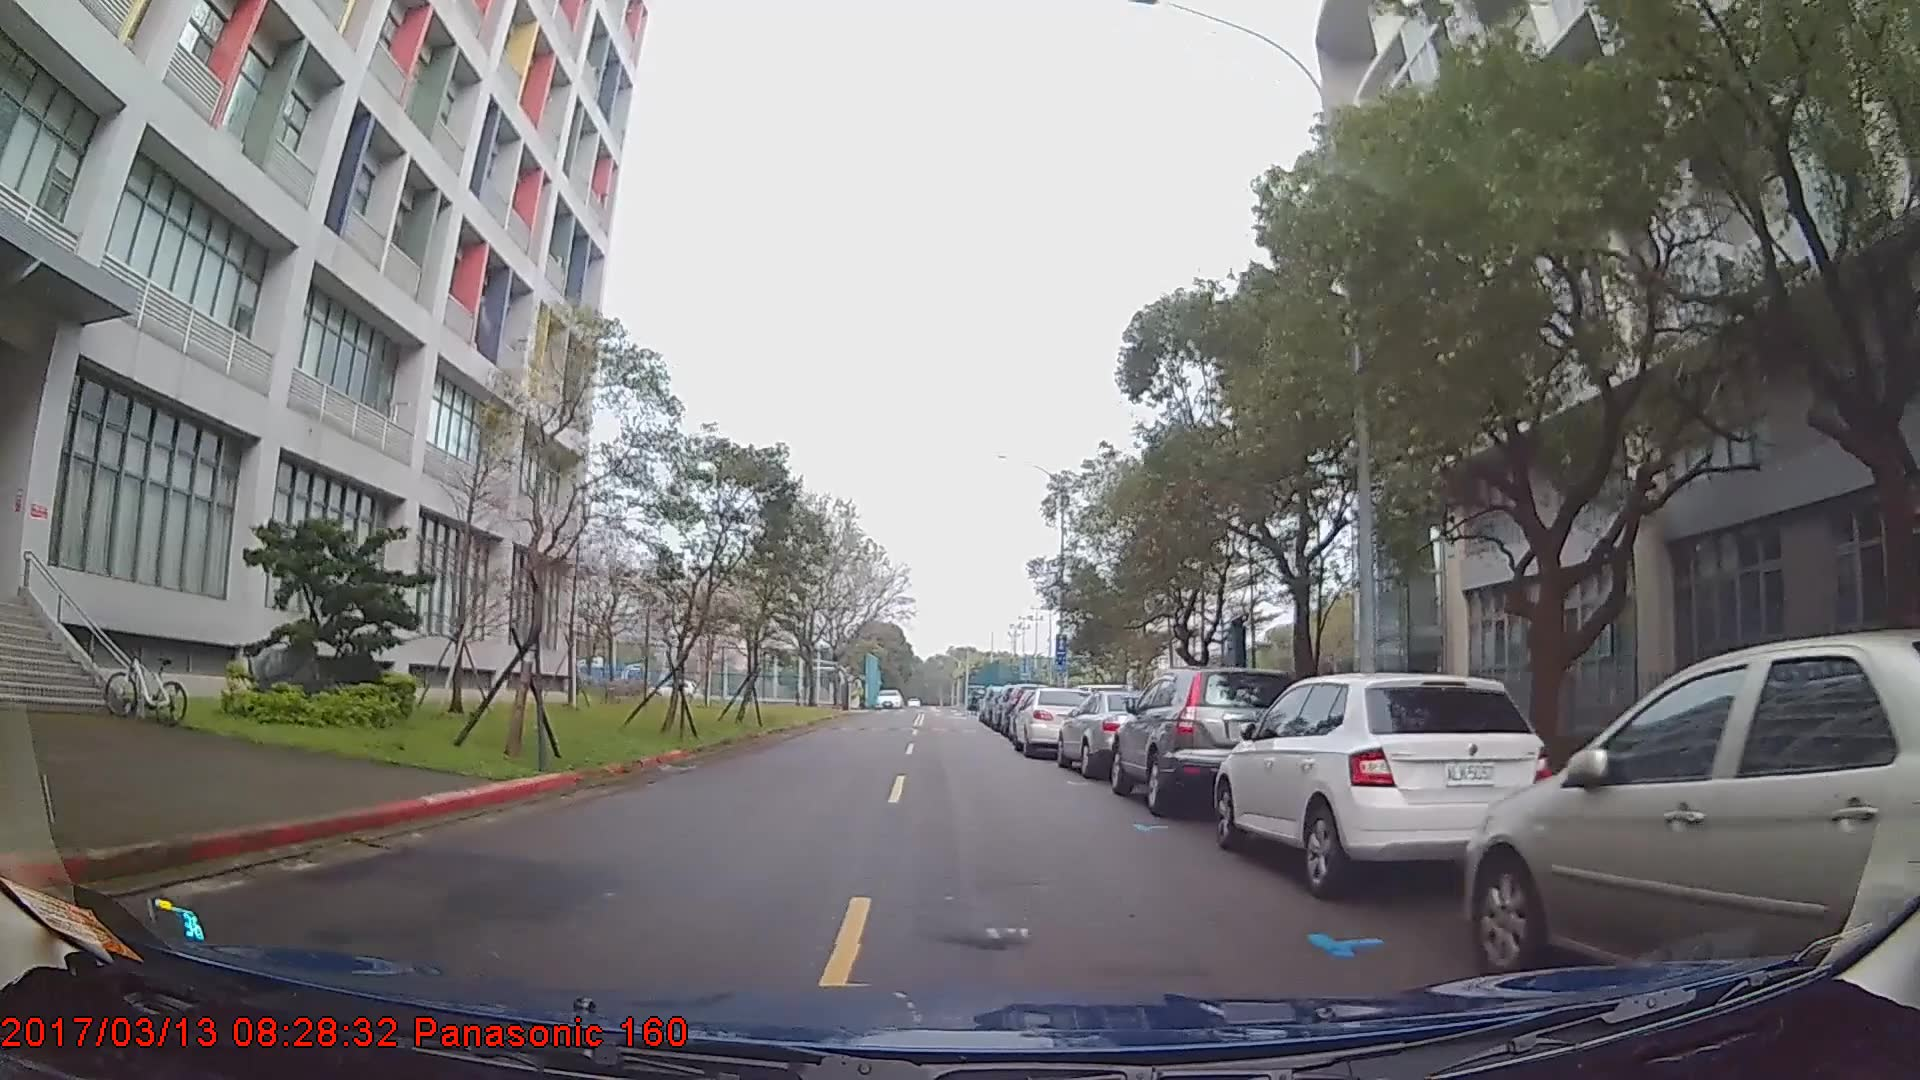vehicle: (1458, 625, 1920, 1000), (1216, 669, 1560, 902), (1108, 665, 1311, 816), (1056, 686, 1162, 775), (1011, 684, 1098, 757)
